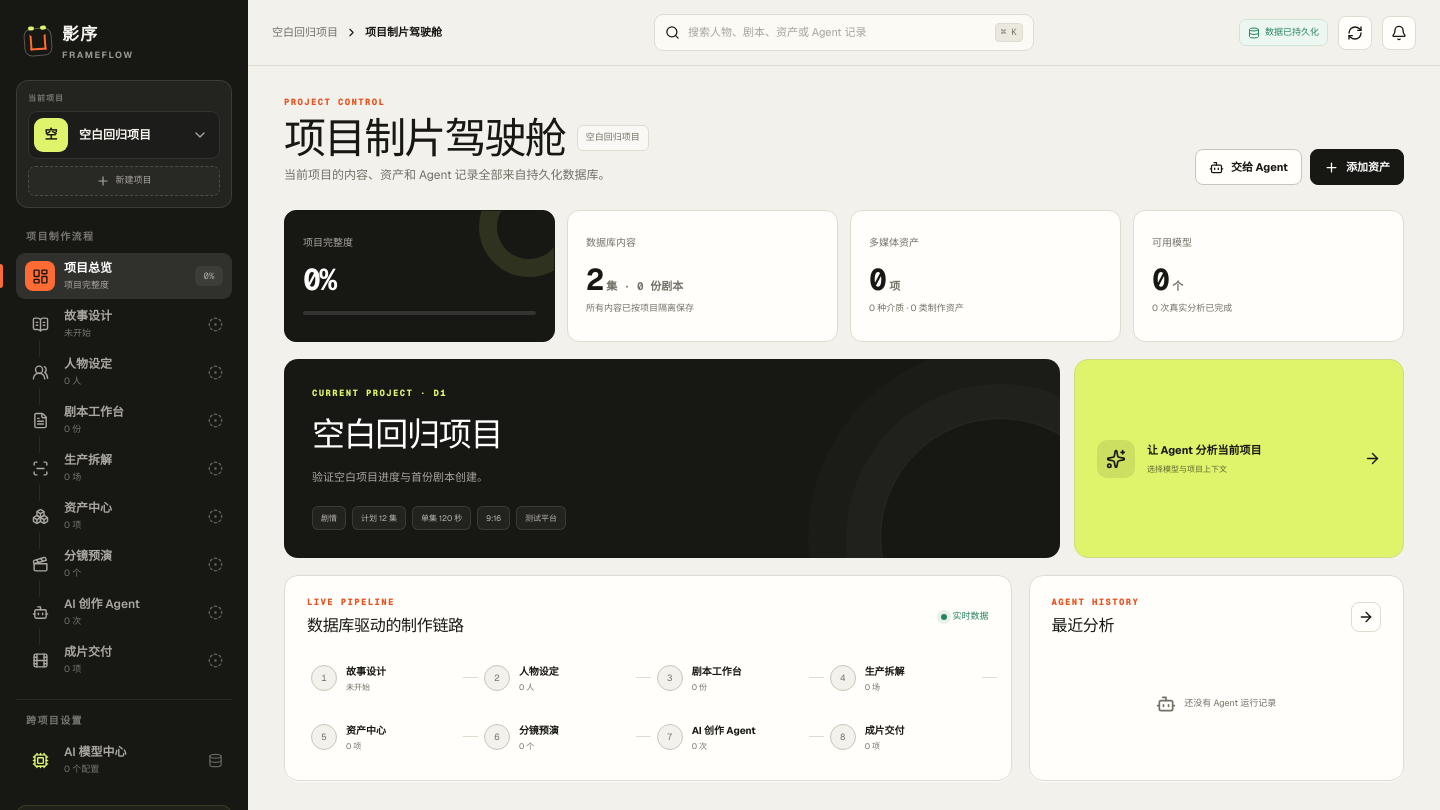
空白项目进度与首份剧本 › 故事设计可按下一集编号新建分集并刷新项目
Expected: the heading "空白回归项目" is shown, [312,412,502,456]
Click the button "故事设计 未开始" at [124, 324], box [16,301,232,347]
(page scrolled)
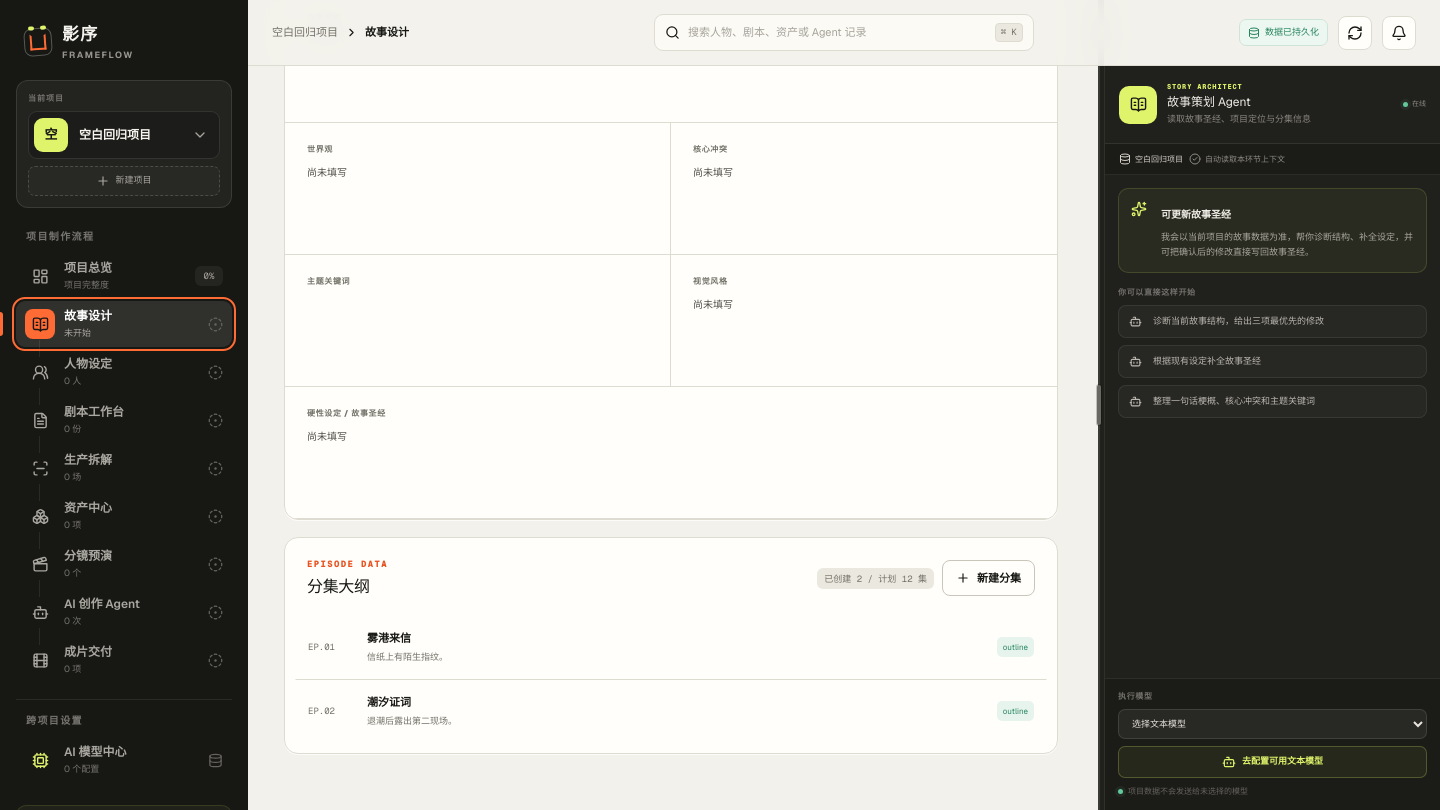
Click the button "新建分集" at [988, 578], box [942,560,1035,596]
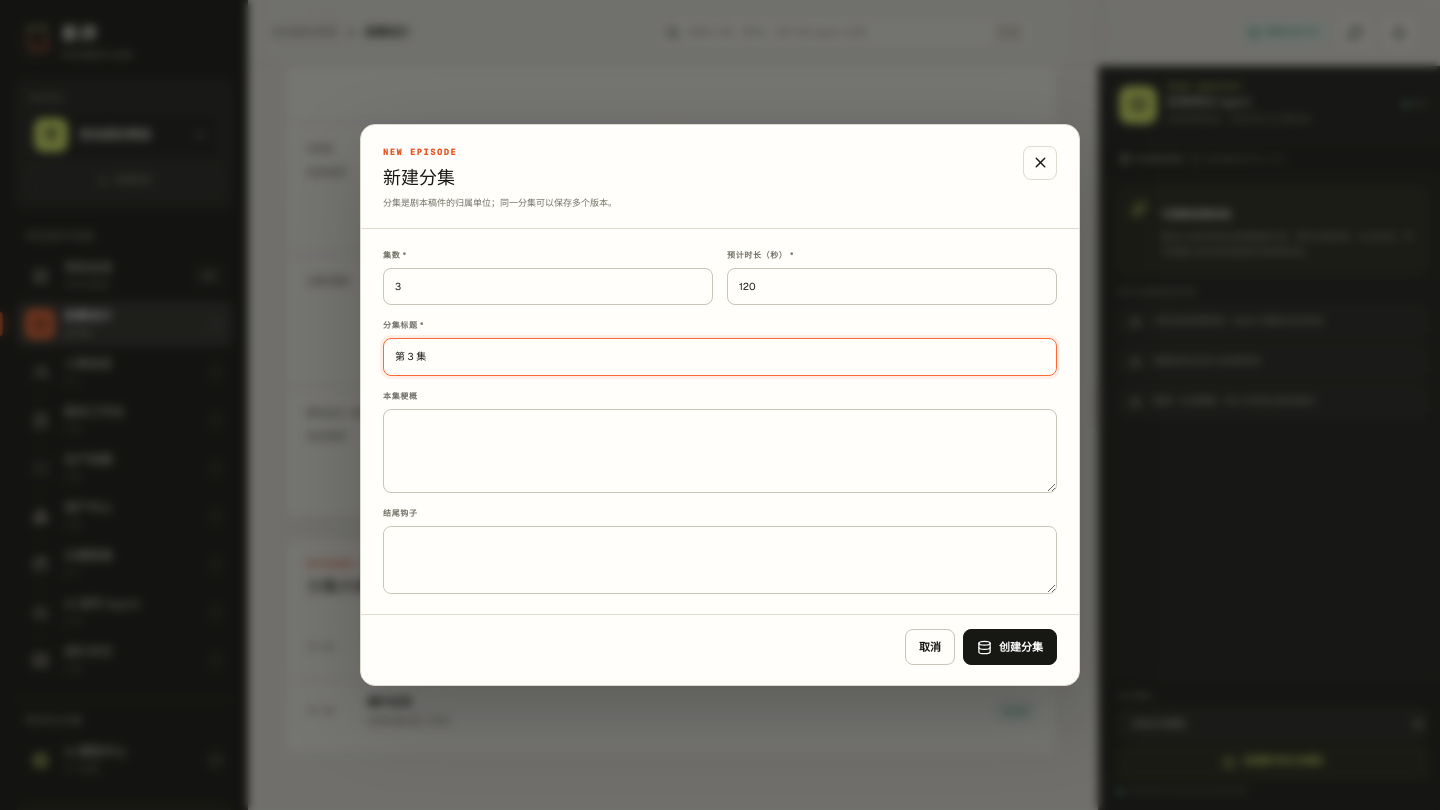
Now the number field labelled "集数 *" holds "3", box [383,268,713,305]
Now the number field labelled "预计时长（秒） *" holds "120", box [727,268,1057,305]
Now the field labelled "分集标题 *" holds "第 3 集"
Replace the text in the field labelled "分集标题 *" with "第三集 · 回声仓库" at [720, 357], box [383,338,1057,376]
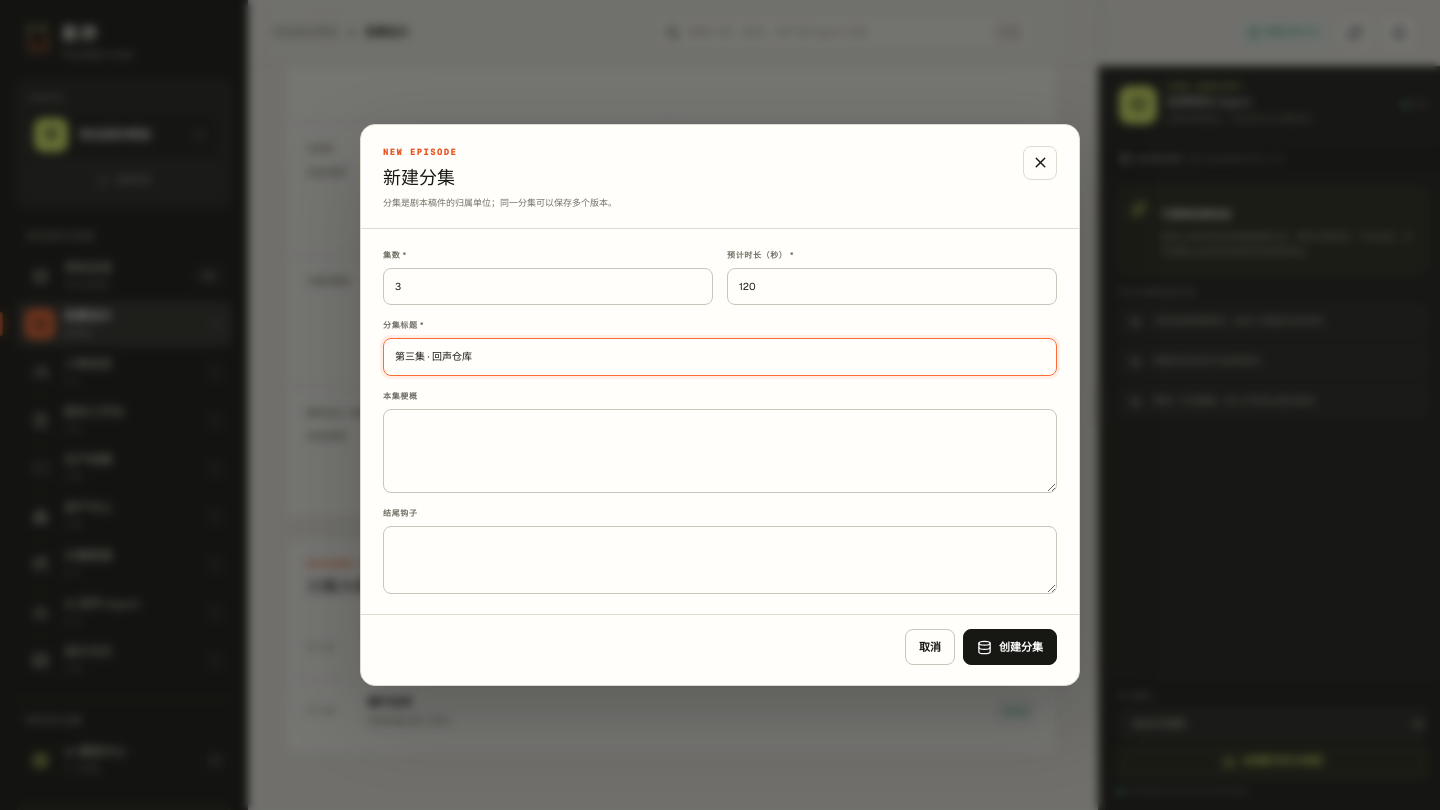
Type "沈雾在废弃仓库发现录音来源。" into the text box labelled "本集梗概" at [720, 451], box [383,409,1057,493]
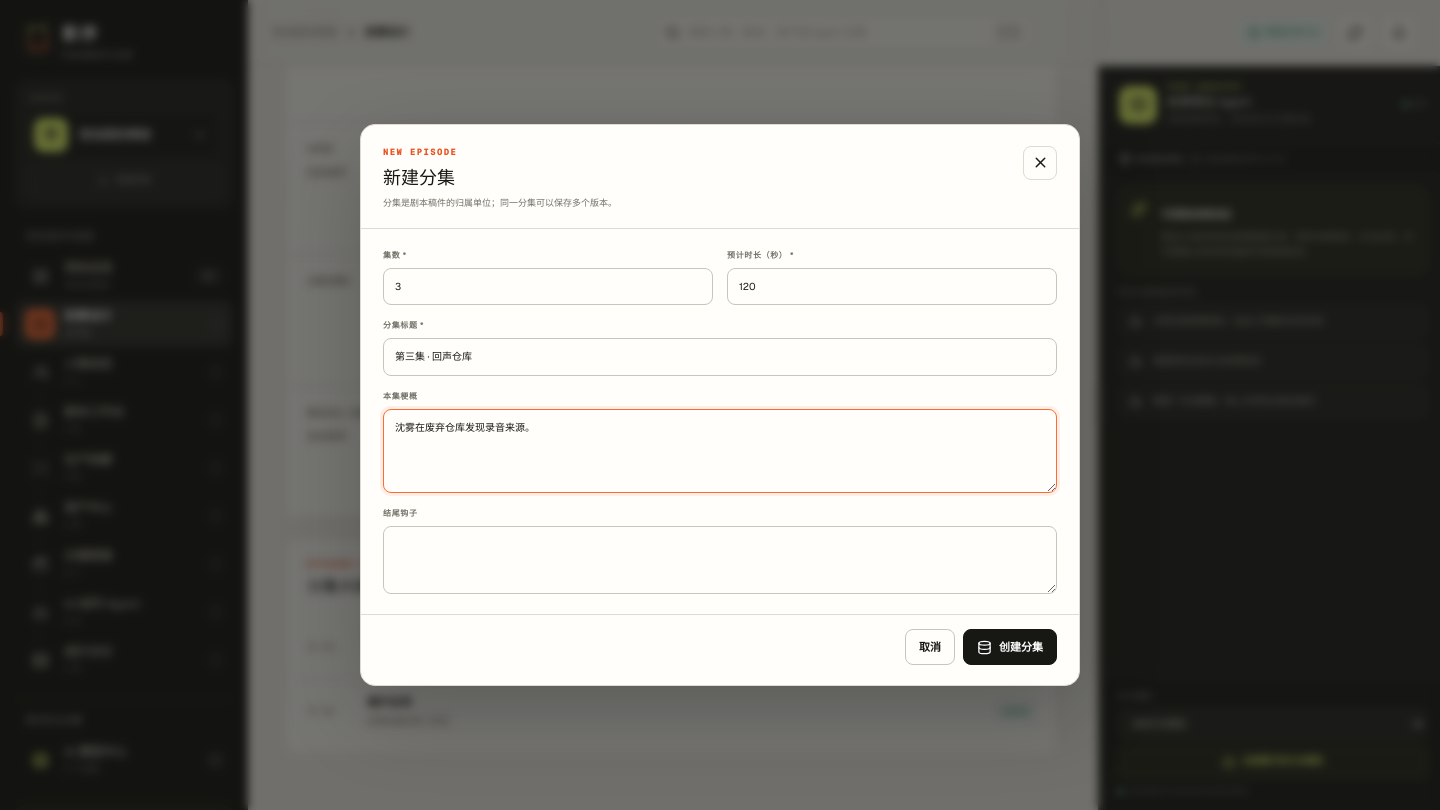
Type "录音里出现了她自己的声音。" into the text box labelled "结尾钩子" at [720, 560], box [383,526,1057,594]
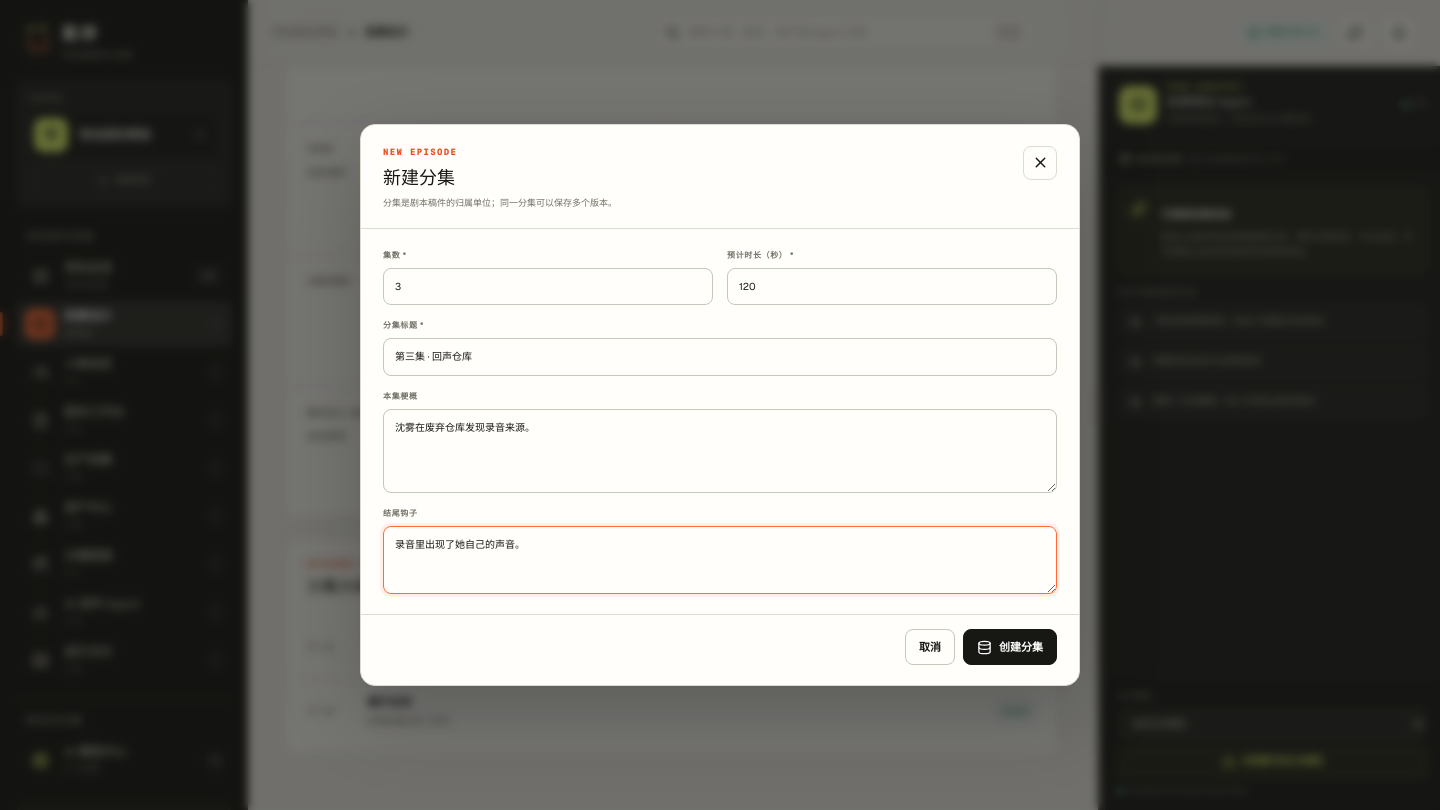
Click the button "创建分集" at [1010, 647], box [963,629,1057,665]
(page scrolled)
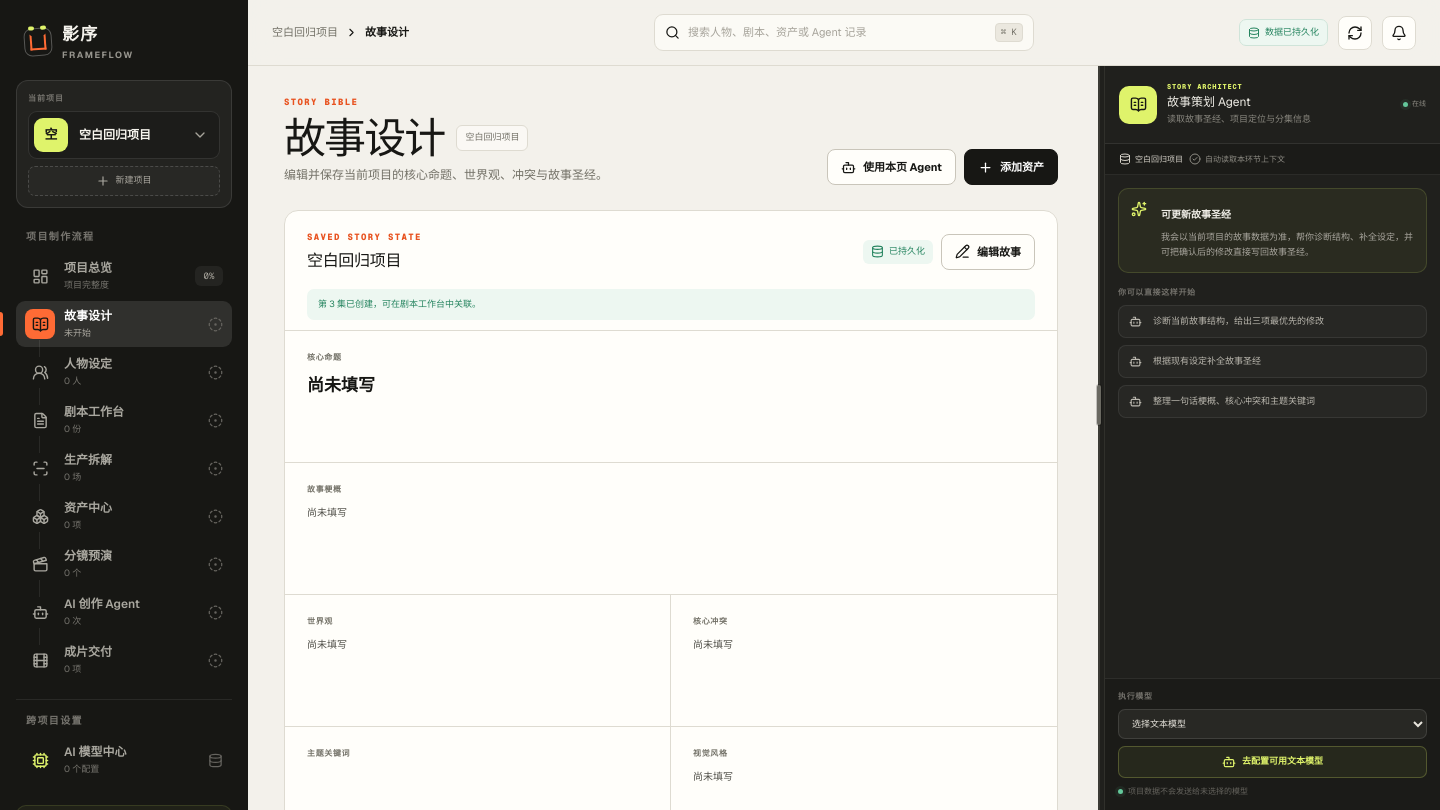
Now the message shows "第 3 集已创建", box [318,298,481,310]
